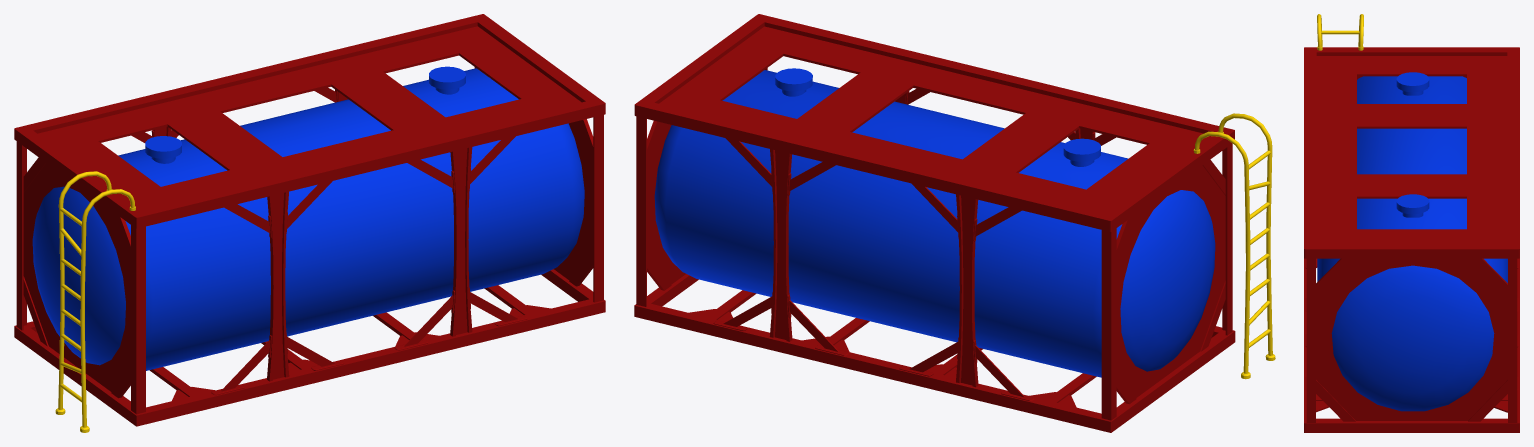
The model's file is OilStorageTank.fbx.
3 renders of one model, left to right at view 1: azimuth 30°, elevation 25°; view 2: azimuth 150°, elevation 25°; view 3: azimuth 270°, elevation 25°, orthographic. The views are drawn at different scales.
Parts seen in each view (by area): view 1: OilStorageTank, Ladder; view 2: OilStorageTank, Ladder; view 3: OilStorageTank, Ladder.
Boxes of the visible parts, x1,y1,x2,y2 form: OilStorageTank: [14, 14, 605, 426]; Ladder: [55, 171, 135, 432]; OilStorageTank: [634, 14, 1235, 432]; Ladder: [1193, 113, 1275, 379]; OilStorageTank: [1304, 47, 1519, 432]; Ladder: [1317, 14, 1363, 50].
Size of the model in its own units: 508 by 214 by 203.
